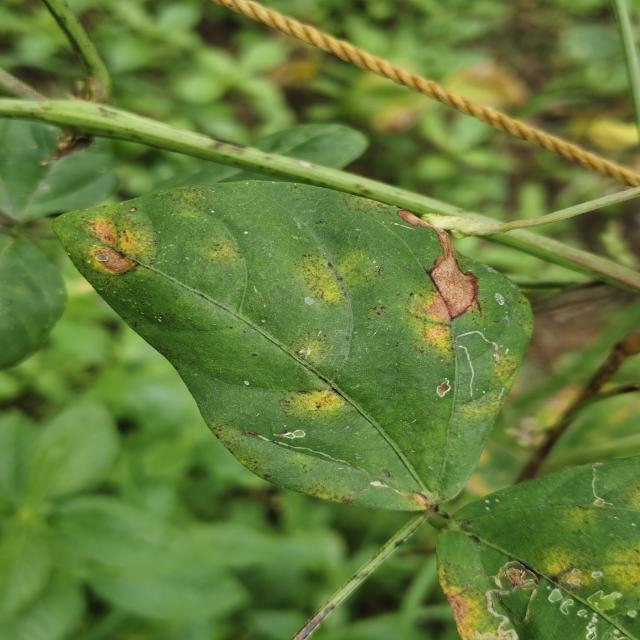leaf-healthy: (55, 181, 533, 516)
